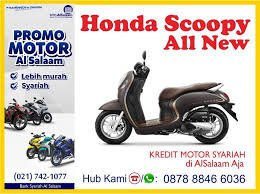motor: (94, 62, 237, 146)
